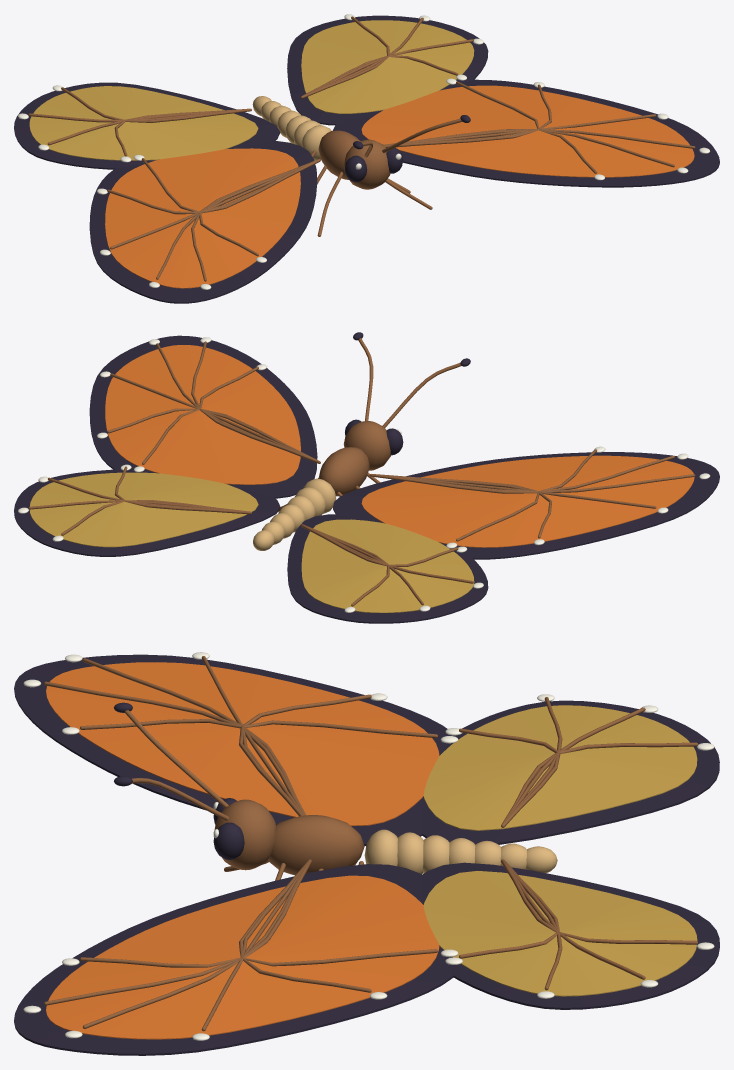
Rendered from butterfly.glb.
3 views of the same model, one above another, from view 1: azimuth 30°, elevation 25°; view 2: azimuth 150°, elevation 25°; view 3: azimuth 270°, elevation 25° (orthographic). The views are drawn at different scales.
Parts seen in each view (by area): view 1: Forewing_orange, Forewing_orange.001, Hindwing_ochre.001, Hindwing_ochre, Black_wing_margin, Black_wing_margin.002, Black_wing_margin.001, Black_wing_margin.003, Head, Thorax, Fine_wing_vein.013, Fine_wing_vein.010 (+12 smaller); view 2: Forewing_orange.001, Forewing_orange, Hindwing_ochre.001, Hindwing_ochre, Black_wing_margin, Black_wing_margin.002, Black_wing_margin.003, Black_wing_margin.001, Thorax, Head, Fine_wing_vein.004, Fine_wing_vein.002 (+10 smaller); view 3: Forewing_orange.001, Forewing_orange, Hindwing_ochre, Hindwing_ochre.001, Black_wing_margin.002, Black_wing_margin, Black_wing_margin.003, Black_wing_margin.001, Thorax, Head, Fine_wing_vein, Fine_wing_vein.014 (+22 smaller).
Part boxes in pixels (x1=…): Forewing_orange: x1=105, y1=148, x2=300, y2=288; Forewing_orange.001: x1=361, y1=85, x2=694, y2=177; Hindwing_ochre.001: x1=301, y1=20, x2=474, y2=113; Hindwing_ochre: x1=29, y1=86, x2=258, y2=160; Black_wing_margin: x1=89, y1=140, x2=317, y2=303; Black_wing_margin.002: x1=332, y1=79, x2=719, y2=187; Black_wing_margin.001: x1=14, y1=82, x2=280, y2=169; Black_wing_margin.003: x1=287, y1=15, x2=488, y2=125; Head: x1=343, y1=139, x2=390, y2=189; Thorax: x1=318, y1=130, x2=360, y2=179; Fine_wing_vein.013: x1=384, y1=129, x2=695, y2=148; Fine_wing_vein.010: x1=384, y1=81, x2=539, y2=147; Forewing_orange.001: x1=105, y1=345, x2=300, y2=484; Forewing_orange: x1=361, y1=455, x2=694, y2=547; Hindwing_ochre.001: x1=29, y1=472, x2=258, y2=547; Hindwing_ochre: x1=301, y1=519, x2=474, y2=612; Black_wing_margin: x1=333, y1=452, x2=719, y2=559; Black_wing_margin.002: x1=89, y1=335, x2=317, y2=498; Black_wing_margin.003: x1=14, y1=469, x2=280, y2=556; Black_wing_margin.001: x1=287, y1=514, x2=488, y2=623; Thorax: x1=318, y1=447, x2=369, y2=496; Head: x1=343, y1=421, x2=390, y2=470; Fine_wing_vein.004: x1=370, y1=455, x2=674, y2=493; Fine_wing_vein.002: x1=377, y1=474, x2=656, y2=508; Forewing_orange.001: x1=46, y1=875, x2=439, y2=1039; Forewing_orange: x1=46, y1=662, x2=439, y2=826; Hindwing_ochre: x1=423, y1=705, x2=697, y2=830; Hindwing_ochre.001: x1=423, y1=871, x2=697, y2=996; Black_wing_margin.002: x1=14, y1=864, x2=453, y2=1055; Black_wing_margin: x1=14, y1=654, x2=451, y2=845; Black_wing_margin.003: x1=421, y1=862, x2=719, y2=1009; Black_wing_margin.001: x1=421, y1=700, x2=719, y2=844; Thorax: x1=268, y1=815, x2=364, y2=875; Head: x1=213, y1=799, x2=275, y2=870; Fine_wing_vein: x1=239, y1=720, x2=437, y2=816; Fine_wing_vein.014: x1=44, y1=859, x2=311, y2=1005.
Bounding box in the file's own units: 0.2952 × 0.0583 × 0.2195.
